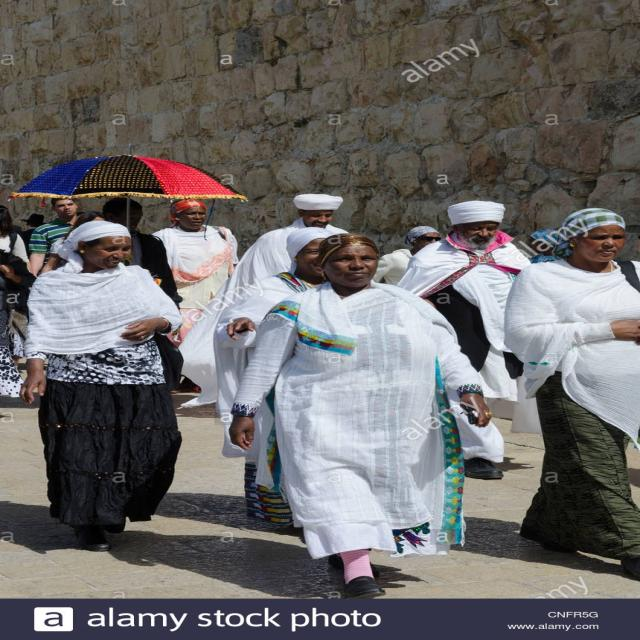body: (215, 229, 502, 601), (0, 482, 639, 602), (11, 216, 189, 553), (493, 203, 639, 581), (387, 196, 543, 486), (217, 226, 339, 528), (1, 204, 107, 414), (142, 196, 245, 397), (212, 192, 352, 312), (99, 196, 186, 316), (26, 197, 80, 278), (371, 226, 442, 286), (525, 228, 567, 263)
